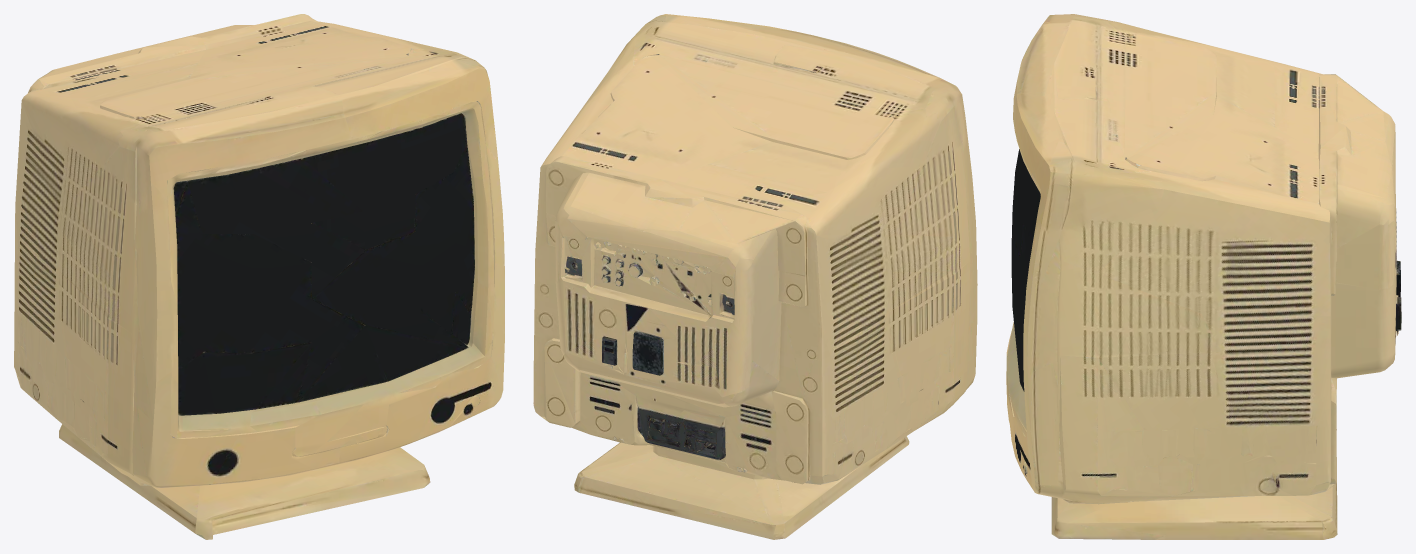
3 renders of one model, left to right at view 1: azimuth 30°, elevation 25°; view 2: azimuth 150°, elevation 25°; view 3: azimuth 270°, elevation 25°, orthographic. The views are drawn at different scales.
Bounding box in the file's own units: 1.79 × 1.9 × 1.71.
1 material, 1 textured.
